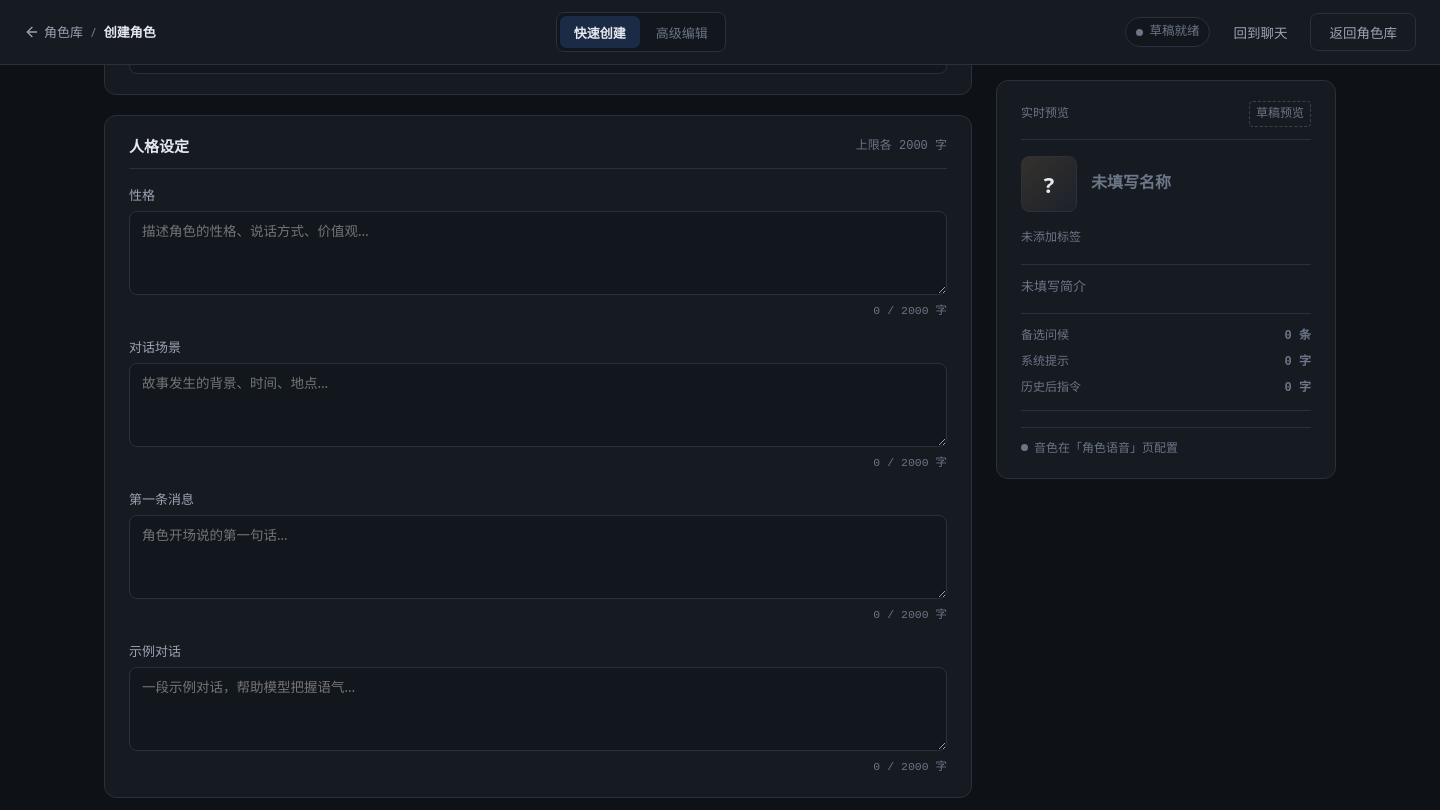
CharacterCreatePage › 字数统计 › {} 实时显示字数并限制 2000 字
The image size is (1440, 810).
(page scrolled)
Type "空间站黑塔" into the text box labelled "对话场景" at (538, 404), box [129, 362, 947, 446]
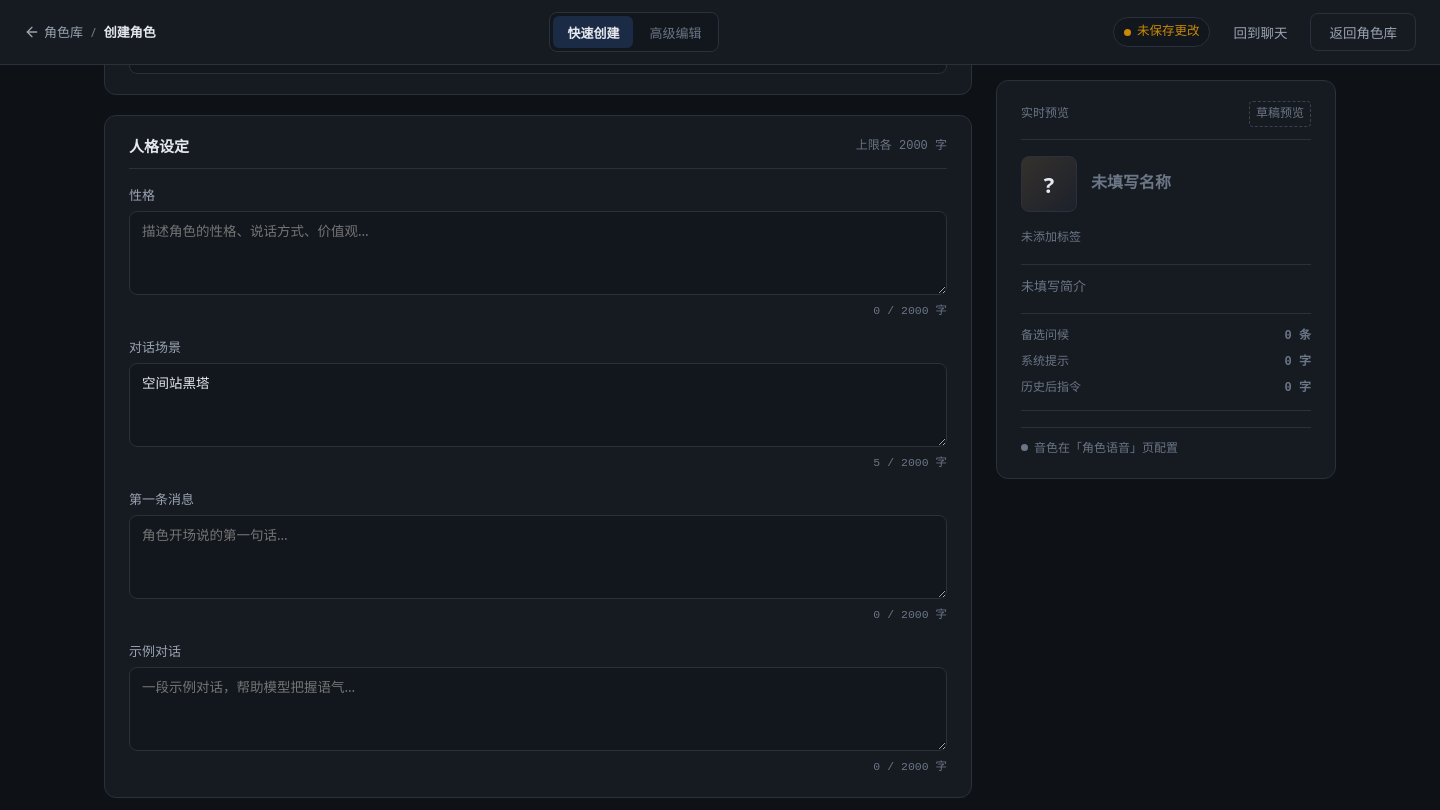
Expected: the text with test id "count-scenario" reads "5 / 2000 字", [873, 456, 947, 468]
